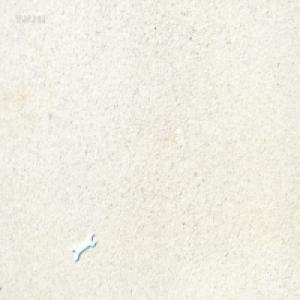Wrench: (73, 234, 98, 262)
